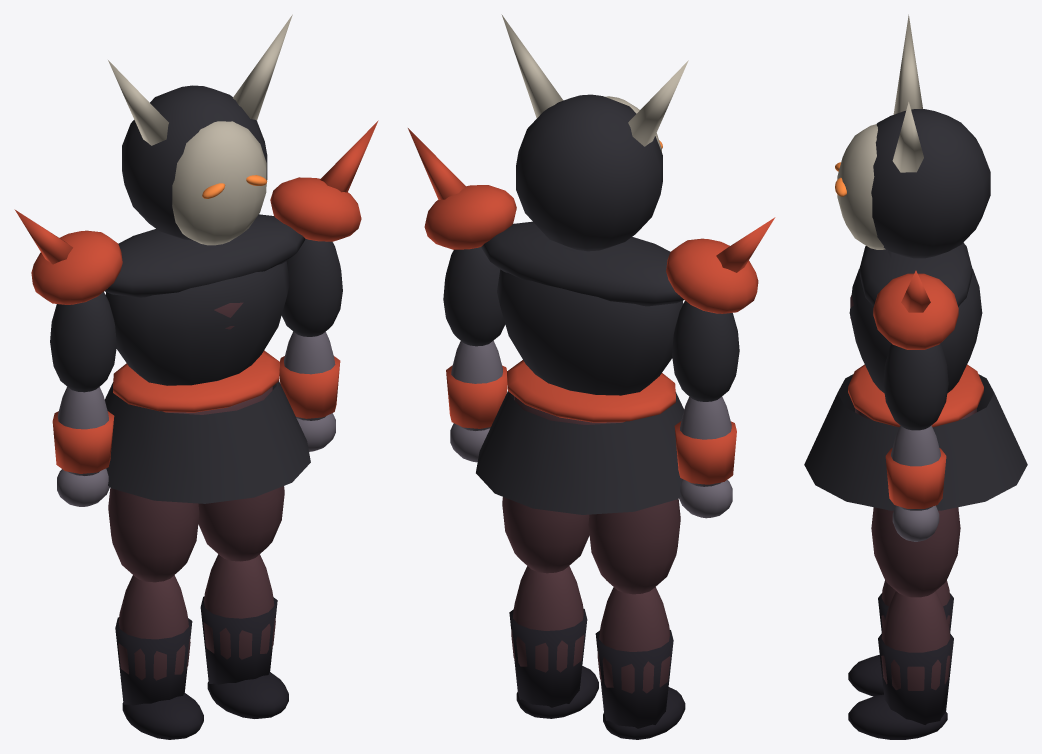
Rendered from ashen_brute.glb.
3 views of the same model, side by side, from view 1: azimuth 30°, elevation 25°; view 2: azimuth 150°, elevation 25°; view 3: azimuth 270°, elevation 25° (orthographic). The views are drawn at different scales.
Visible parts, largest first — view 1: Torso, Hips, Head, LowerLegR, LowerLegL, UpperLegR, LowerArmR, UpperArmR, LowerArmL, UpperArmL, UpperLegL; view 2: Torso, Hips, Head, LowerLegL, LowerLegR, UpperLegR, LowerArmR, UpperArmR, LowerArmL, UpperArmL, UpperLegL; view 3: Head, Hips, Torso, LowerLegL, LowerArmL, UpperLegL, UpperArmL, LowerLegR.
Part boxes in pixels (x1=…): Torso: x1=14, y1=120, x2=378, y2=385; Hips: x1=105, y1=350, x2=310, y2=503; Head: x1=108, y1=14, x2=292, y2=245; LowerLegR: x1=115, y1=575, x2=203, y2=739; LowerLegL: x1=200, y1=554, x2=288, y2=718; UpperLegR: x1=108, y1=488, x2=199, y2=582; LowerArmR: x1=52, y1=386, x2=114, y2=506; UpperArmR: x1=50, y1=292, x2=116, y2=392; LowerArmL: x1=279, y1=331, x2=340, y2=451; UpperArmL: x1=281, y1=239, x2=342, y2=336; UpperLegL: x1=198, y1=486, x2=284, y2=561; Torso: x1=408, y1=128, x2=775, y2=395; Hips: x1=476, y1=360, x2=684, y2=514; Head: x1=501, y1=14, x2=688, y2=251; LowerLegL: x1=509, y1=566, x2=598, y2=718; LowerLegR: x1=595, y1=587, x2=685, y2=739; UpperLegR: x1=588, y1=498, x2=680, y2=594; LowerArmR: x1=674, y1=396, x2=736, y2=518; UpperArmR: x1=672, y1=300, x2=739, y2=401; LowerArmL: x1=446, y1=341, x2=507, y2=462; UpperArmL: x1=443, y1=247, x2=505, y2=346; UpperLegL: x1=502, y1=497, x2=589, y2=573; Head: x1=835, y1=14, x2=990, y2=258; Hips: x1=804, y1=364, x2=1027, y2=510; Torso: x1=849, y1=243, x2=982, y2=393; LowerLegL: x1=848, y1=591, x2=953, y2=739; LowerArmL: x1=885, y1=425, x2=946, y2=541; UpperLegL: x1=871, y1=507, x2=960, y2=597; UpperArmL: x1=883, y1=343, x2=948, y2=430; LowerLegR: x1=848, y1=580, x2=953, y2=696.
Size of the model in its own units: 1.13 by 2.01 by 0.6204.
